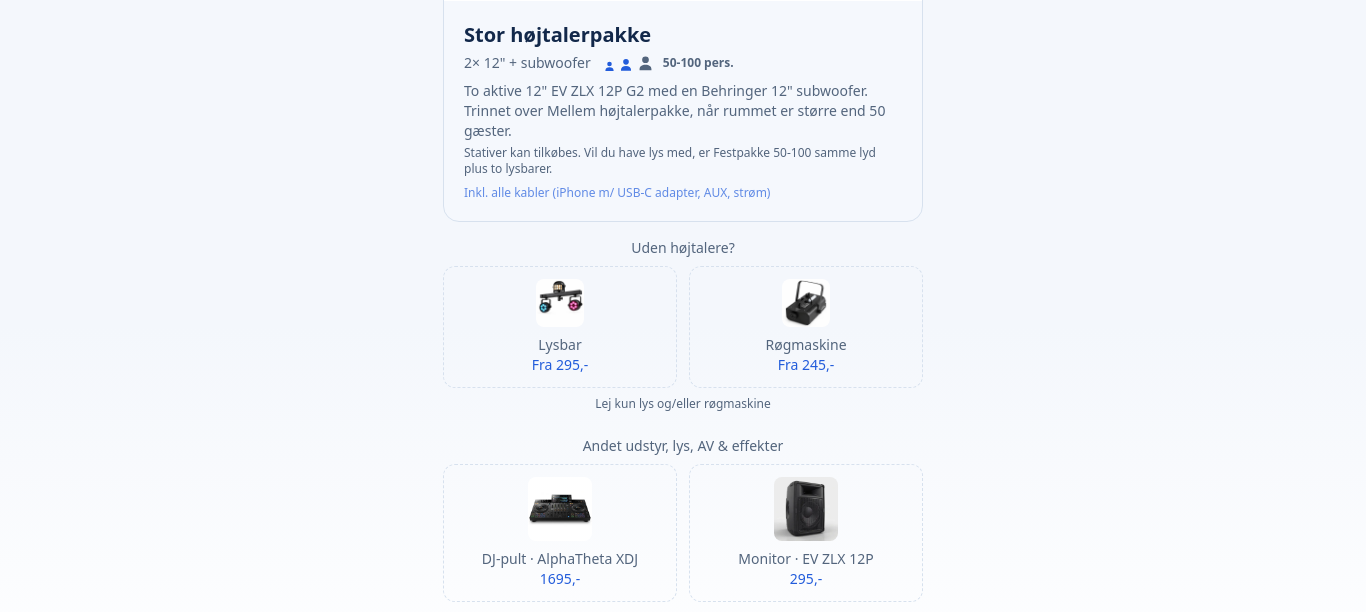
Test: BookingFlow - Step 1: Speaker selection › advances to step 2 in effects-only mode when clicking lys
(page scrolled)
Click the button "Lysbar Fra 295,-" at (560, 327), box [443,266,677,388]
(page scrolled)
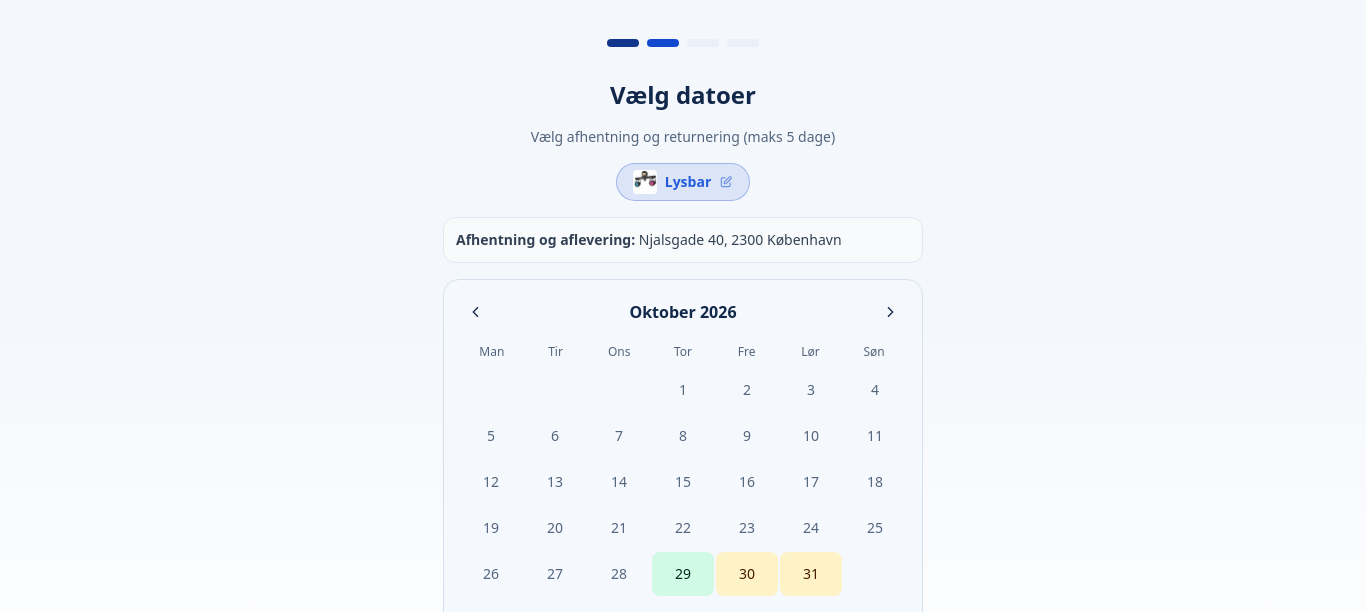
Expected: the heading "Vælg datoer" is shown, [610,78,756,111]
